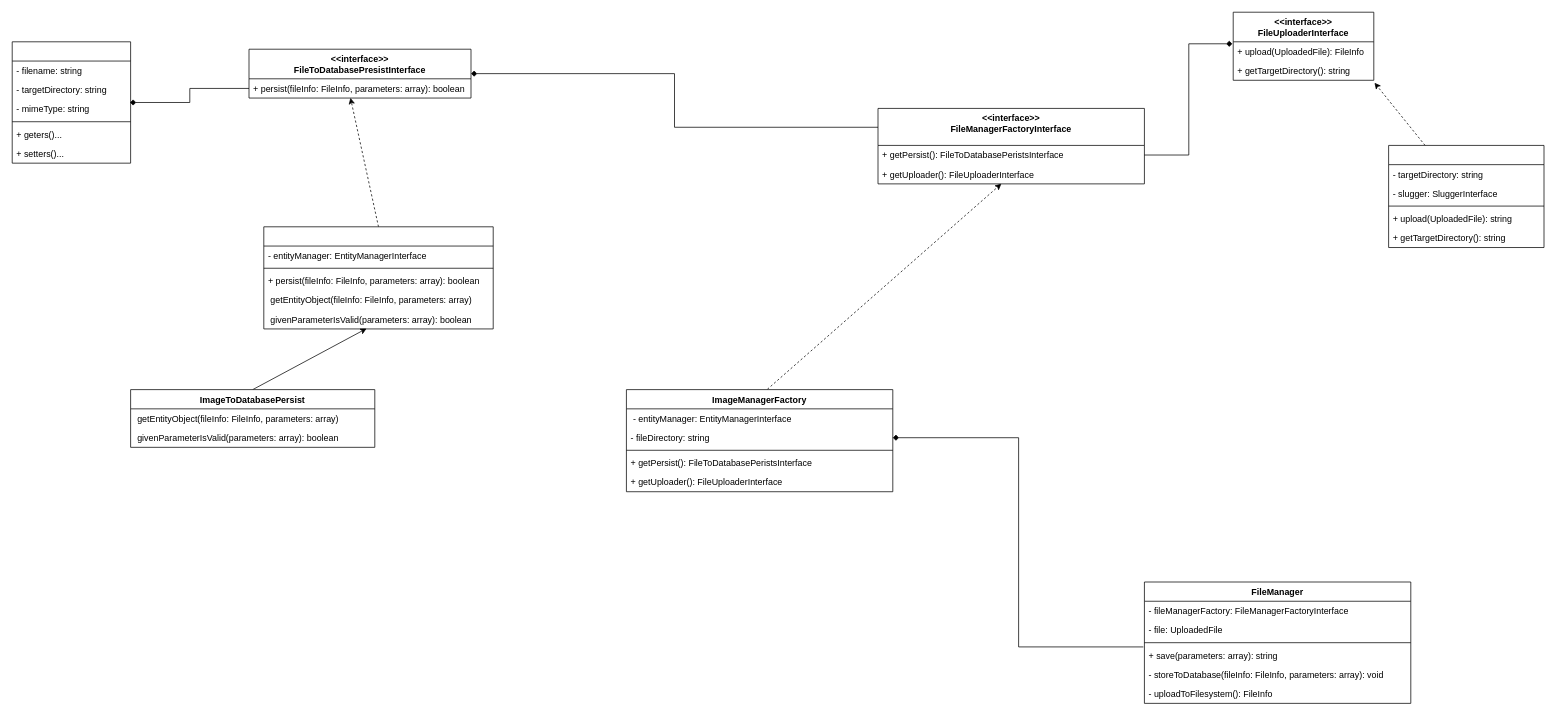
The diagram is 1556 pixels wide and 716 high, and some of its shapes have lost their labels. The box of each missing label's shape, as (x1, y1, x2, y2) in pixels:
AbstractFileToDatabasePersist: (263, 226, 493, 329)
FileInfo: (11, 41, 131, 163)
FileUploader: (1388, 145, 1544, 248)
